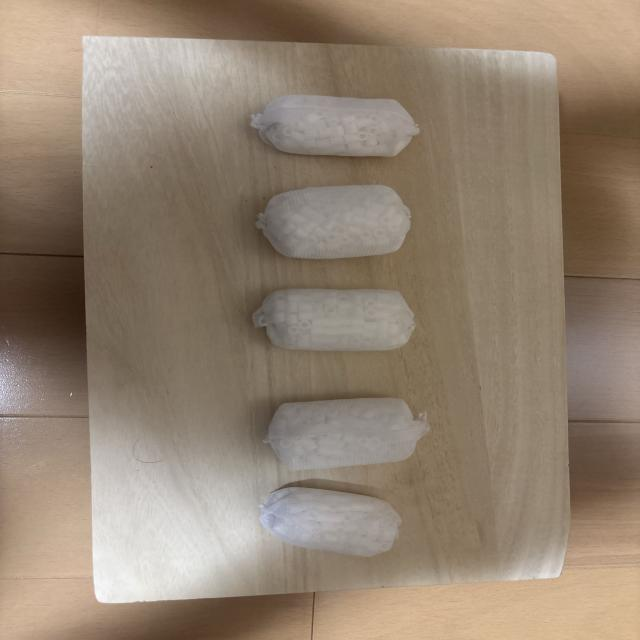NG: (263, 398, 430, 471), (256, 184, 410, 260), (252, 288, 415, 352), (251, 95, 419, 157), (260, 488, 401, 556)
